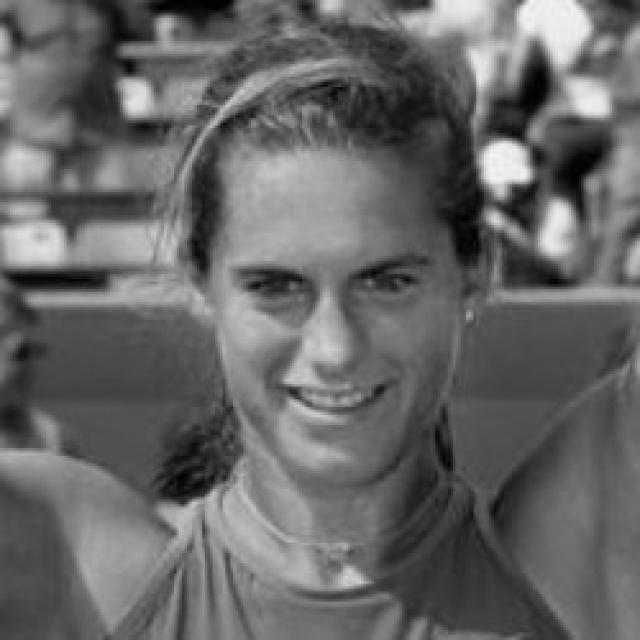real: (205, 26, 485, 492), (223, 251, 425, 318)
